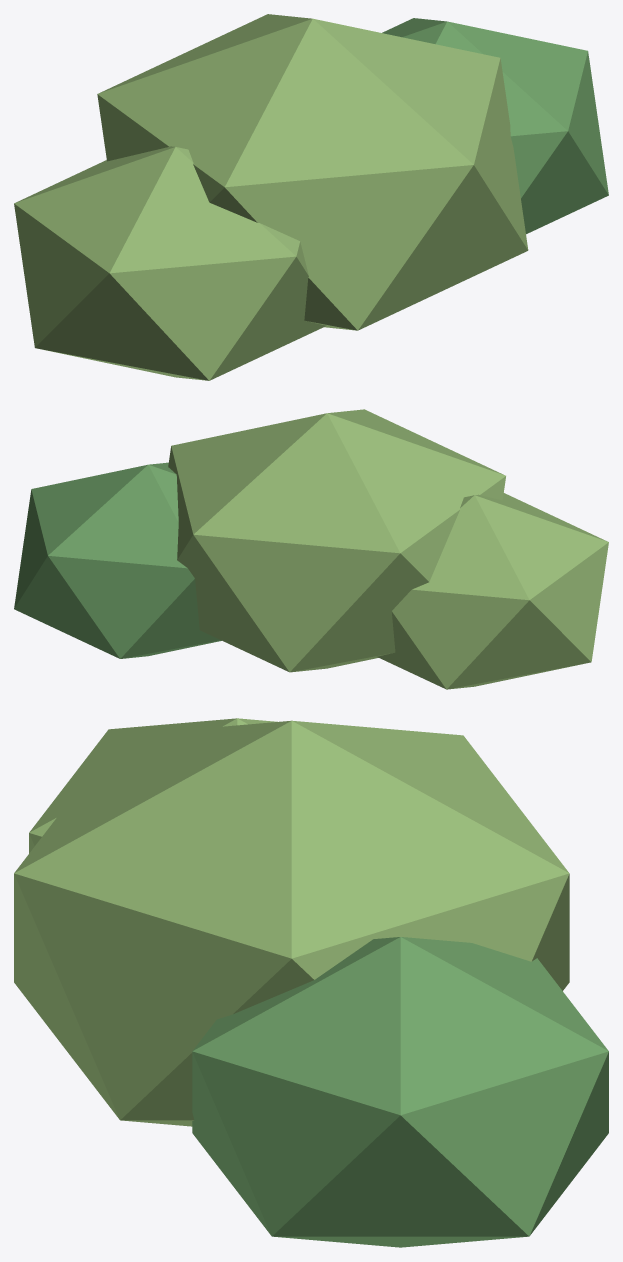
File: shrub.glb
3 renders of one model, top to bottom at view 1: azimuth 30°, elevation 25°; view 2: azimuth 150°, elevation 25°; view 3: azimuth 270°, elevation 25°, orthographic. The views are drawn at different scales.
Visible parts, largest first — view 1: shrub; view 2: shrub; view 3: shrub.
Boxes of the visible parts, x1,y1,x2,y2 form: shrub: [14, 14, 608, 380]; shrub: [14, 409, 608, 689]; shrub: [14, 718, 608, 1247].
Bounding box in the file's own units: 1.75 × 0.84 × 1.09.
